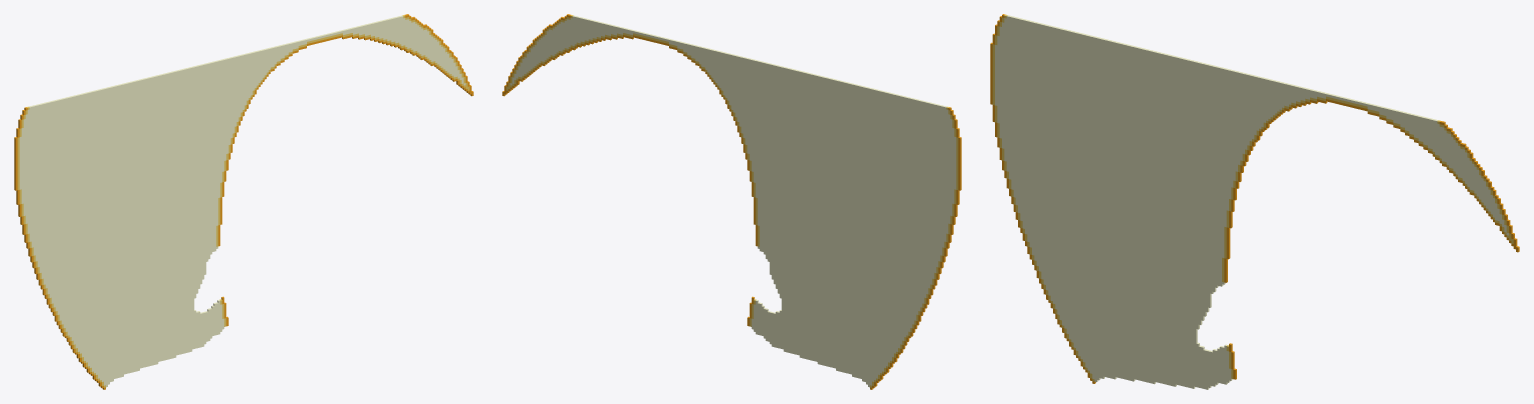
File: Fight_107_2_07_fx.obj
3 renders of one model, left to right at view 1: azimuth 30°, elevation 25°; view 2: azimuth 150°, elevation 25°; view 3: azimuth 330°, elevation 25°, orthographic. The views are drawn at different scales.
Bounding box in the file's own units: 22.8 × 14.3 × 0.1.
Materials: 1 (1 with a texture image).
